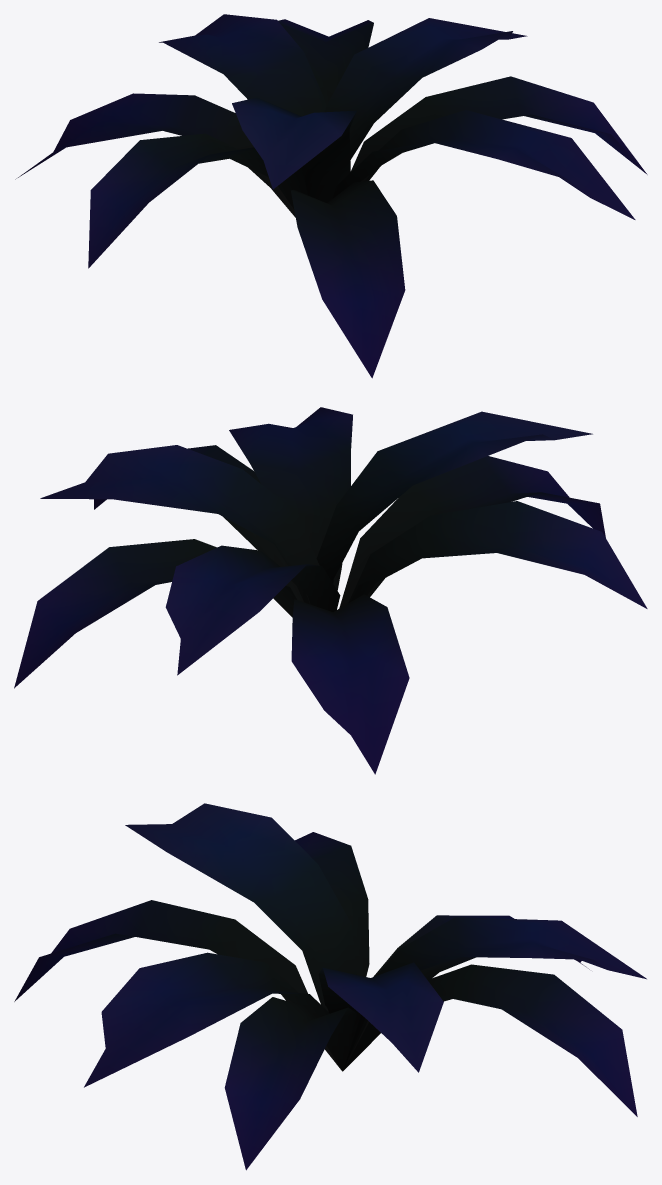
File: TSI_Plant_07A.fbx
The picture shows the model from 3 angles, top to bottom: view 1: azimuth 30°, elevation 25°; view 2: azimuth 150°, elevation 25°; view 3: azimuth 270°, elevation 25°; orthographic projection.
Visible parts, largest first — view 1: TSI_Plant_07A_LOD0; view 2: TSI_Plant_07A_LOD0; view 3: TSI_Plant_07A_LOD0.
Part boxes in pixels (<box>): TSI_Plant_07A_LOD0: <box>15,14,647,378</box>; TSI_Plant_07A_LOD0: <box>14,407,647,774</box>; TSI_Plant_07A_LOD0: <box>14,803,646,1170</box>.
Bounding box in the file's own units: 113 × 39 × 113.
